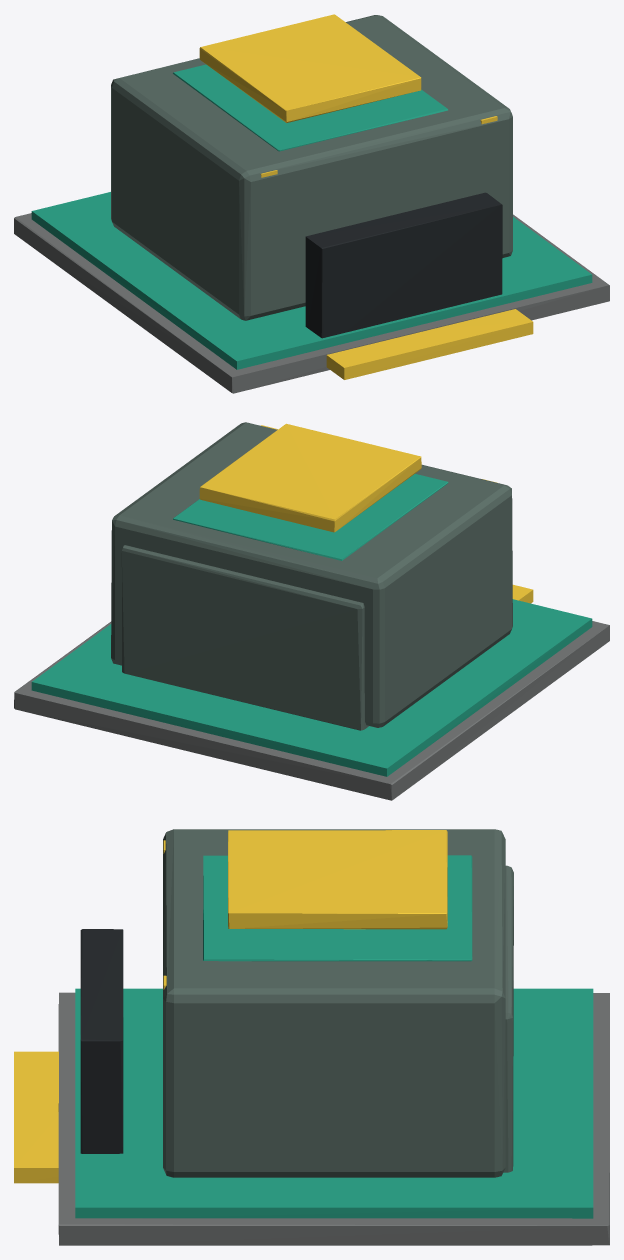
The model's file is SM_Coalition_CO_WarFactory_LOD2.fbx.
3 renders of one model, top to bottom at view 1: azimuth 30°, elevation 25°; view 2: azimuth 150°, elevation 25°; view 3: azimuth 270°, elevation 25°, orthographic. The views are drawn at different scales.
Parts seen in each view (by area): view 1: LOD02_SM_Coalition_CO_WarFactory; view 2: LOD02_SM_Coalition_CO_WarFactory; view 3: LOD02_SM_Coalition_CO_WarFactory.
Boxes of the visible parts, x1,y1,x2,y2 form: LOD02_SM_Coalition_CO_WarFactory: (14,14,609,393); LOD02_SM_Coalition_CO_WarFactory: (14,422,609,800); LOD02_SM_Coalition_CO_WarFactory: (14,829,609,1245).
Size of the model in its own units: 798 by 862 by 412.
